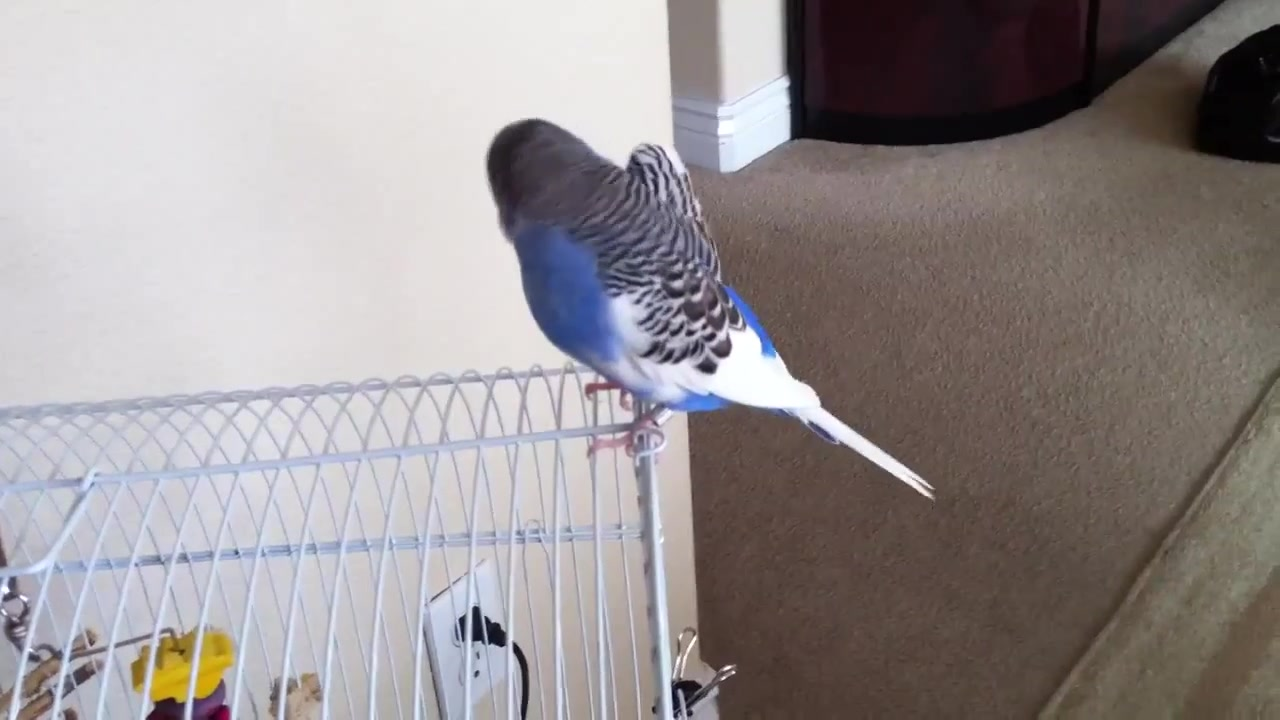bird: (484, 116, 940, 501)
